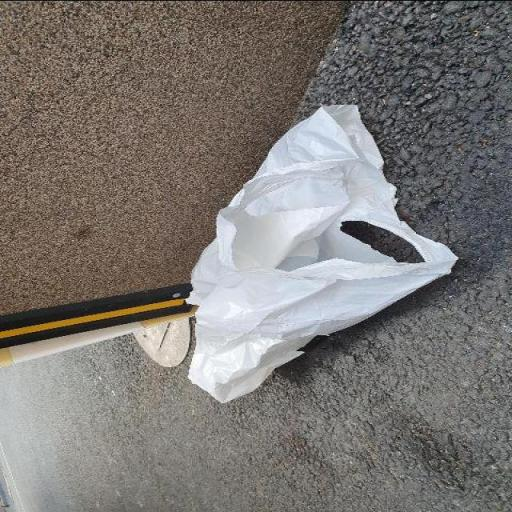plastic-bag: (186, 100, 461, 404)
